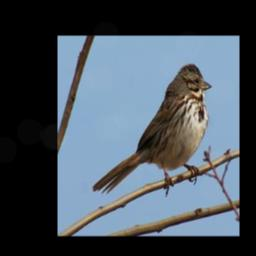Sparrow: (90, 62, 212, 196)
